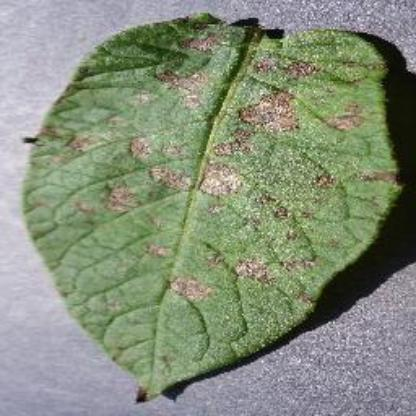Early-Blight: (24, 15, 406, 401)
